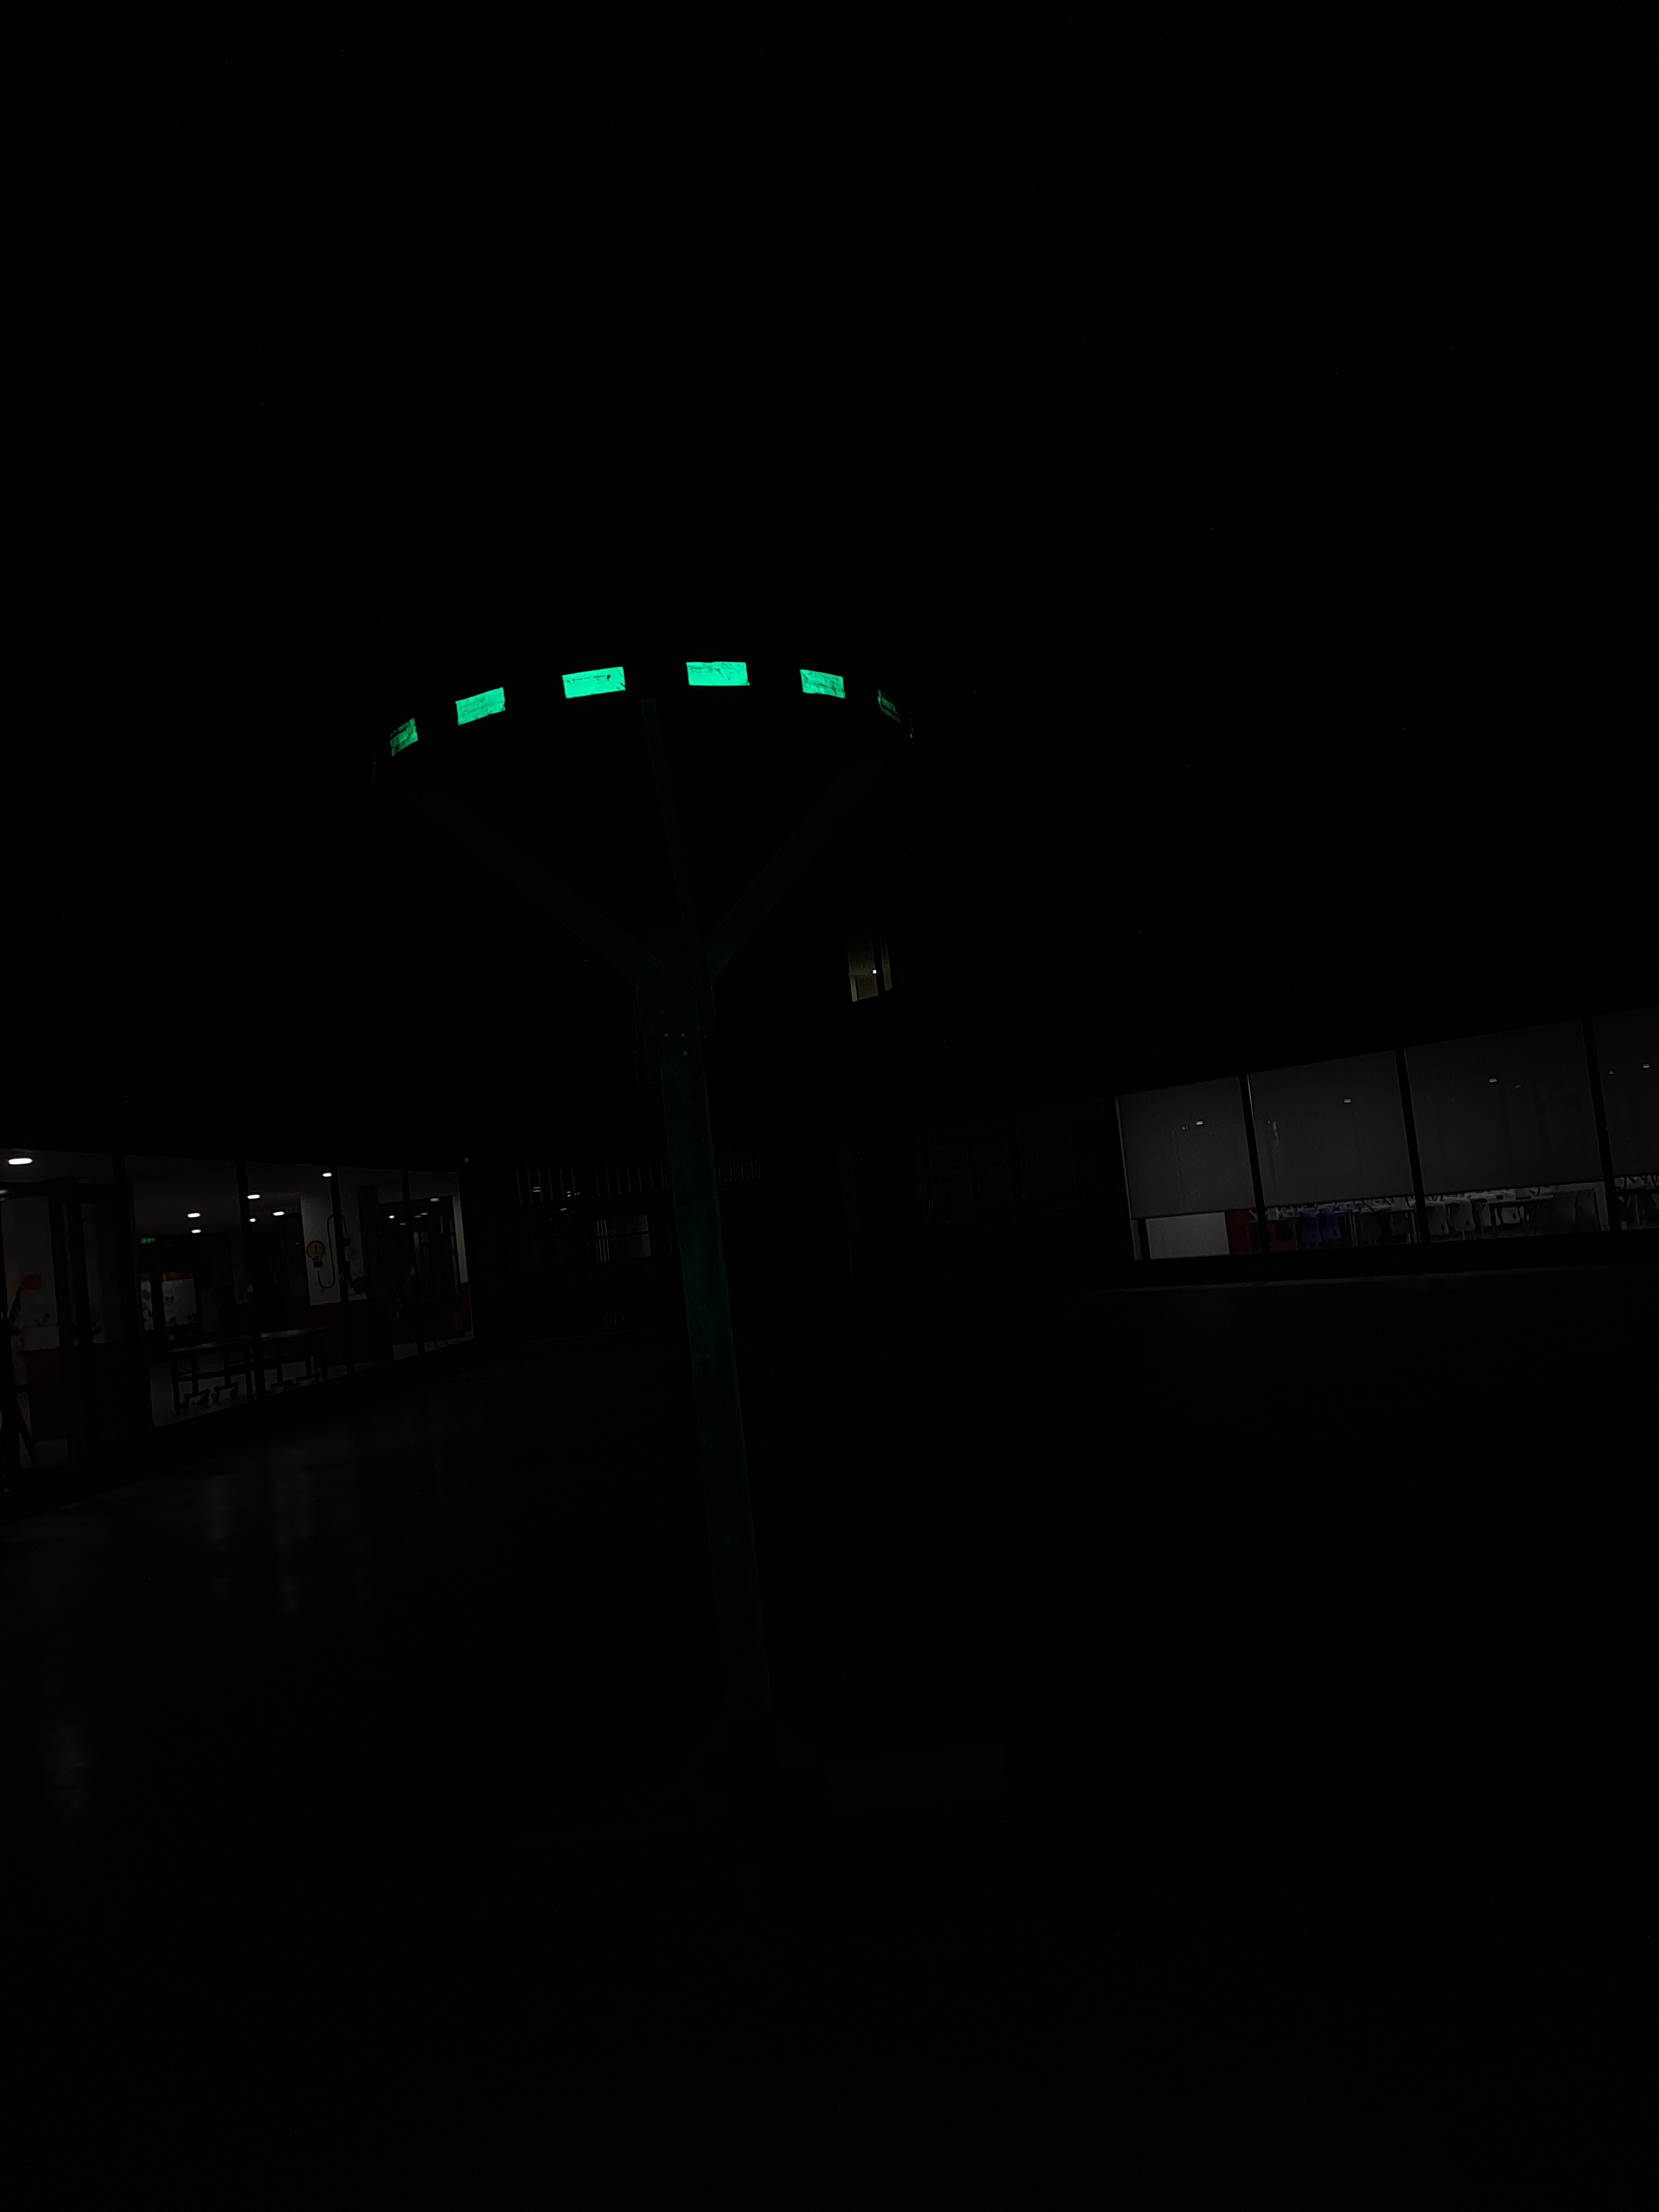hoop: (375, 653, 849, 773)
